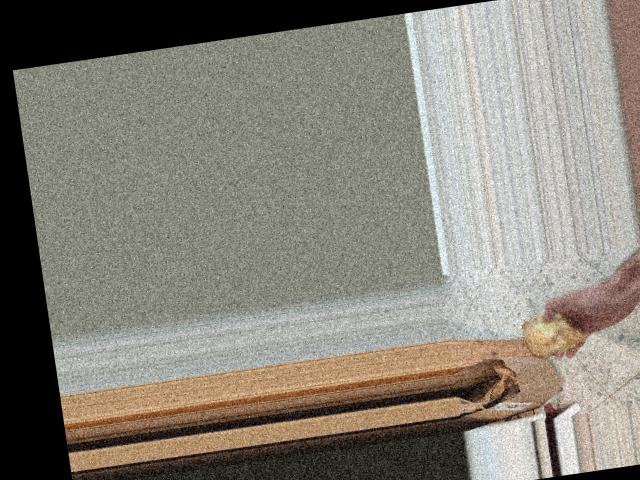onion: (516, 301, 591, 361)
